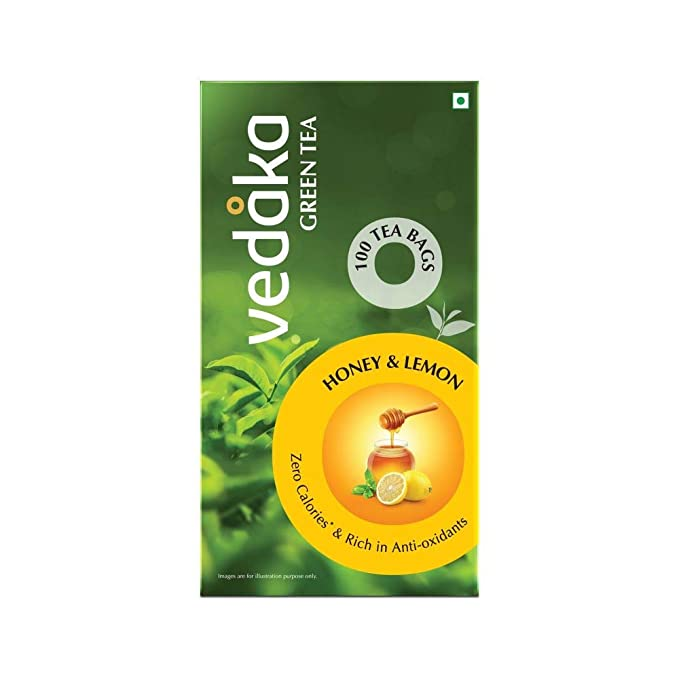veg: (445, 90, 477, 123)
